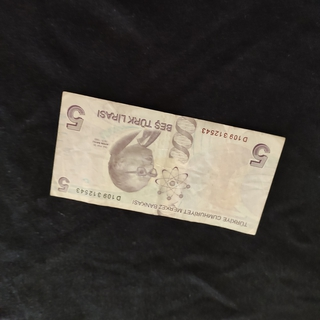5TLBack: (47, 89, 288, 236)
